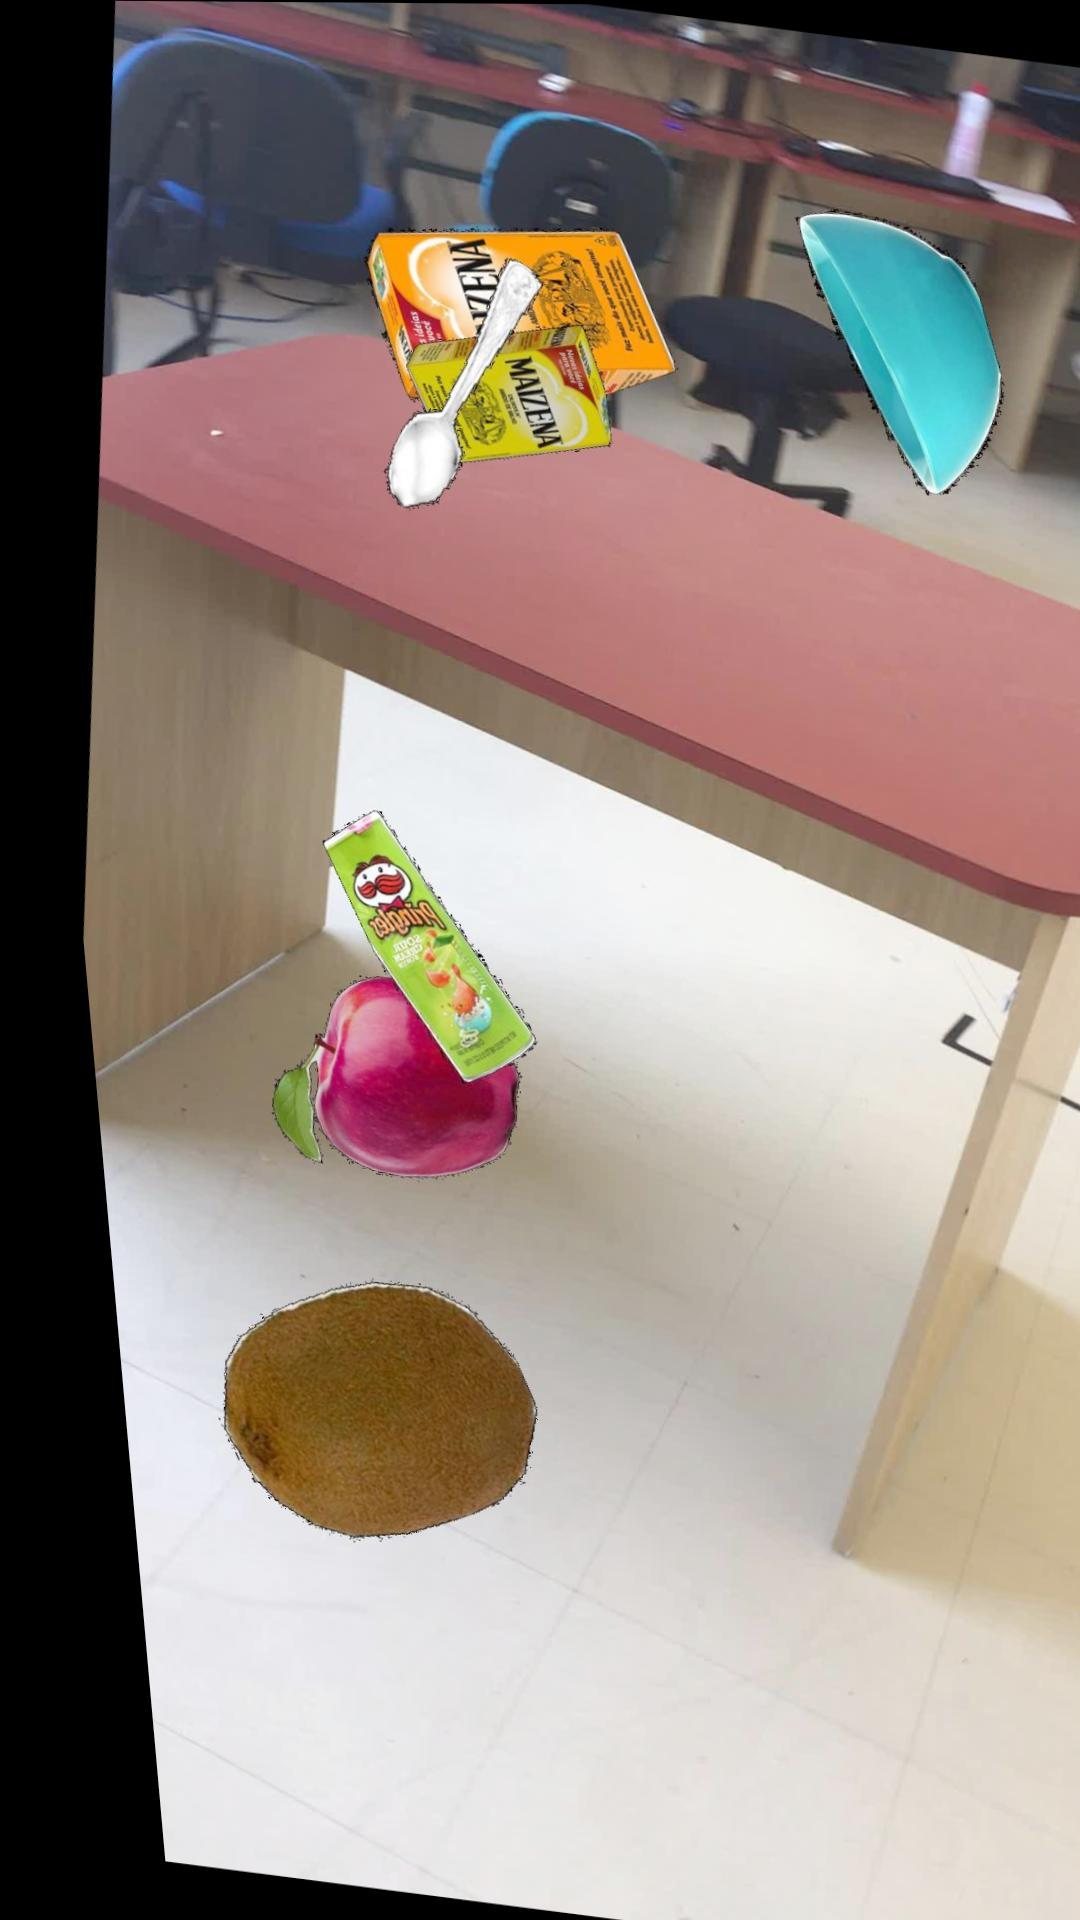apple: (252, 973, 500, 1175)
bowl: (795, 208, 997, 491)
kiwi: (198, 1278, 510, 1535)
pringles: (307, 807, 517, 1080)
spoon: (375, 255, 538, 505)
